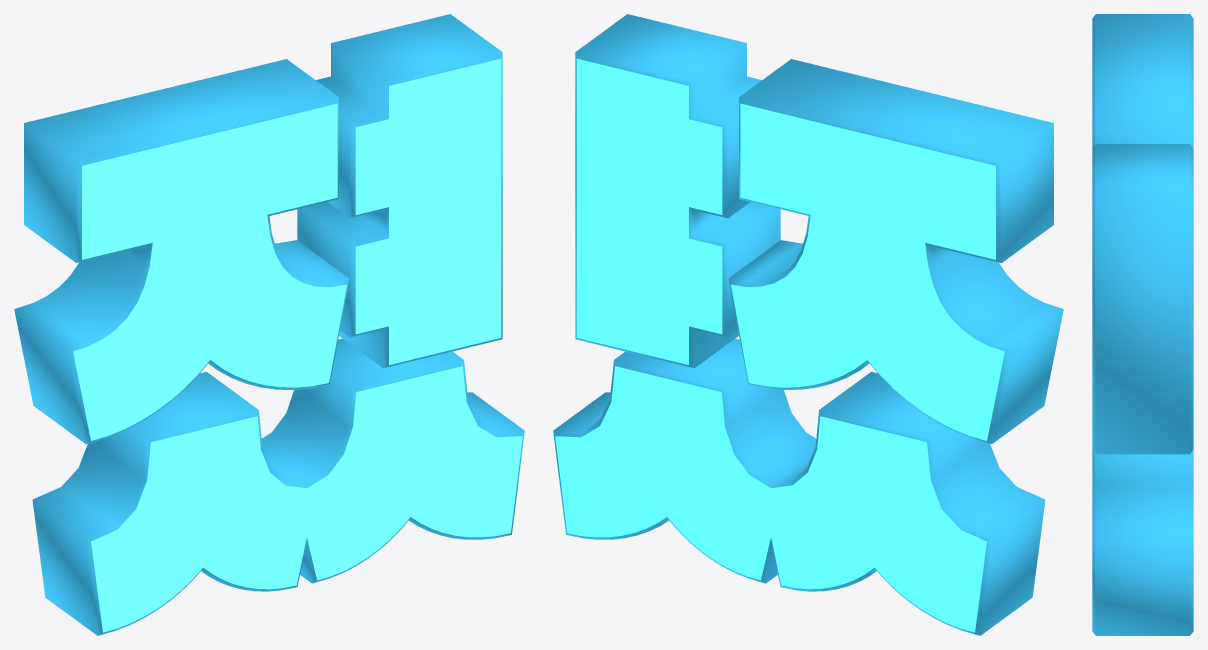
The picture shows the model from 3 angles, left to right: view 1: azimuth 30°, elevation 25°; view 2: azimuth 150°, elevation 25°; view 3: azimuth 270°, elevation 25°; orthographic projection. The views are drawn at different scales.
Visible parts, largest first — view 1: glyph; view 2: glyph; view 3: glyph.
Part boxes in pixels (x1,y1,x2,y2): glyph: (14, 14, 524, 635); glyph: (553, 14, 1063, 635); glyph: (1092, 14, 1193, 635).
Size of the model in its own units: 0.0758 by 0.0766 by 0.0162.
